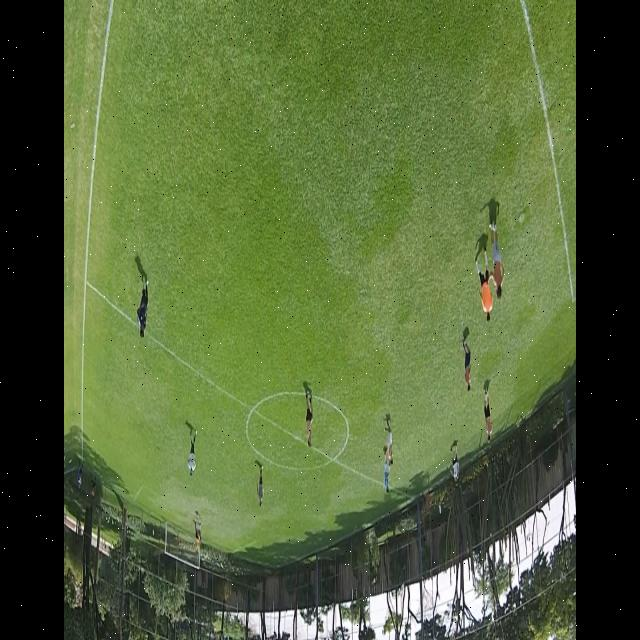humans: (486, 210, 505, 304), (475, 250, 492, 326), (134, 270, 150, 345), (186, 423, 200, 484), (304, 385, 316, 455), (460, 336, 473, 396), (447, 441, 461, 490), (483, 383, 492, 450), (255, 459, 265, 512), (385, 421, 395, 469), (192, 514, 201, 563), (380, 462, 390, 498)
